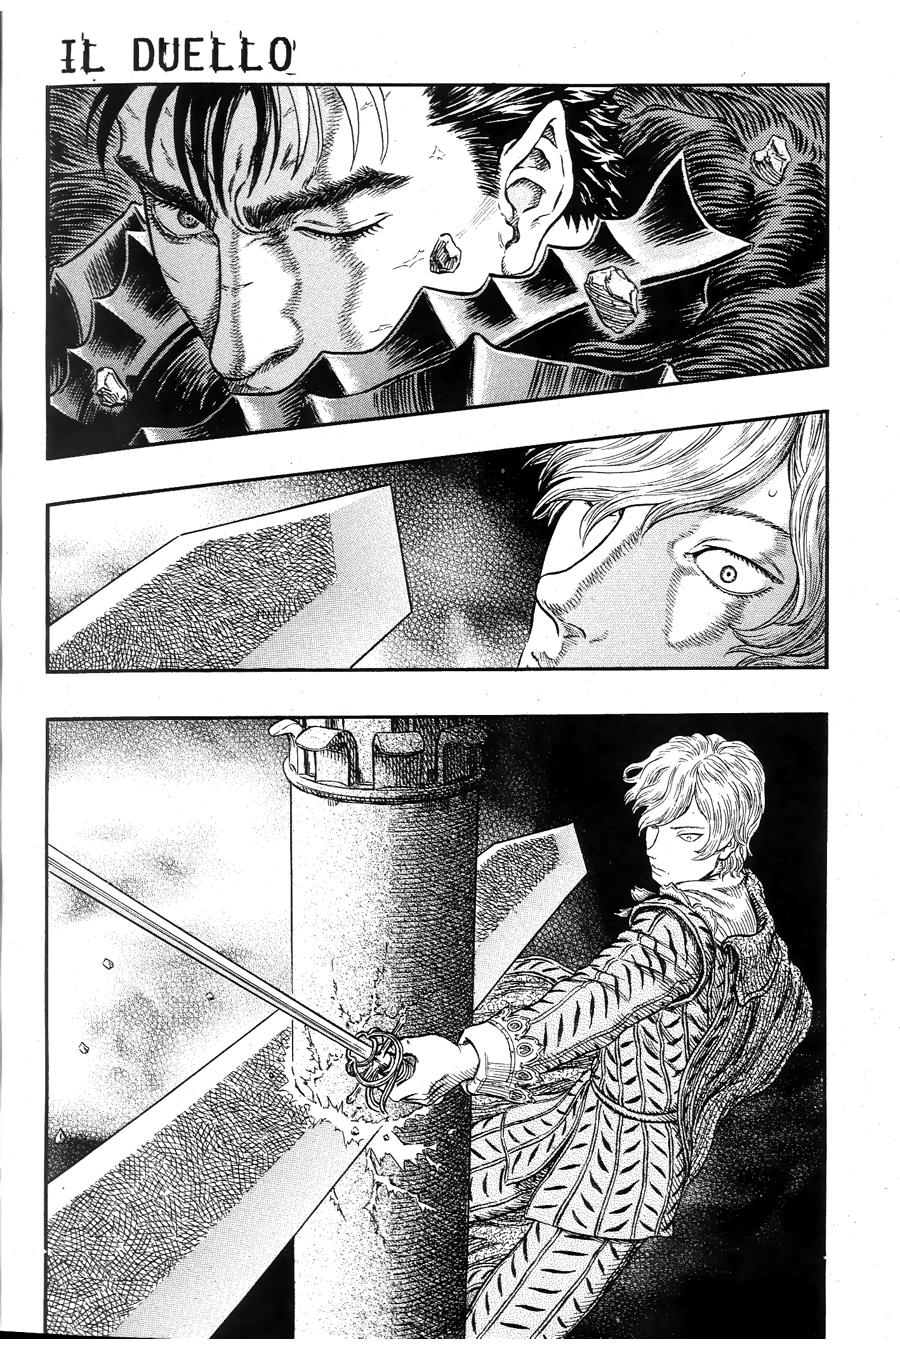Vignetta: (40, 711, 832, 1342), (46, 85, 830, 460), (26, 411, 832, 672)
